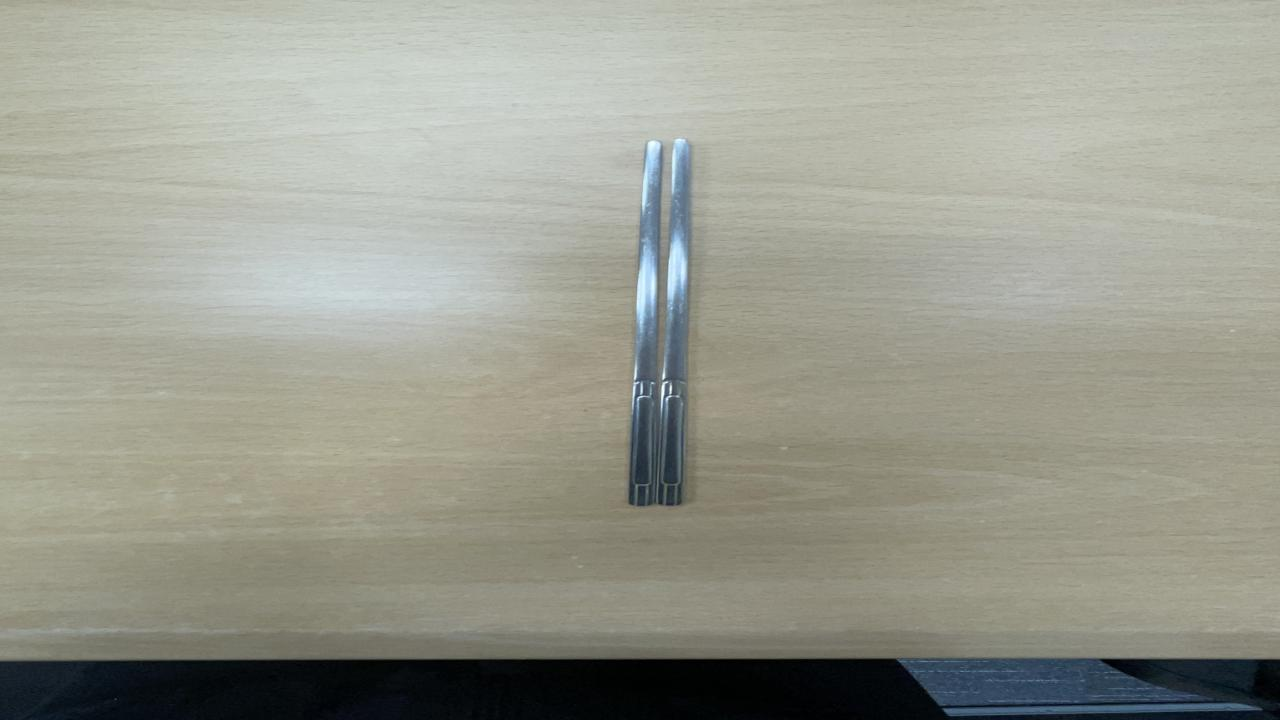chopstick: (622, 136, 690, 508)
